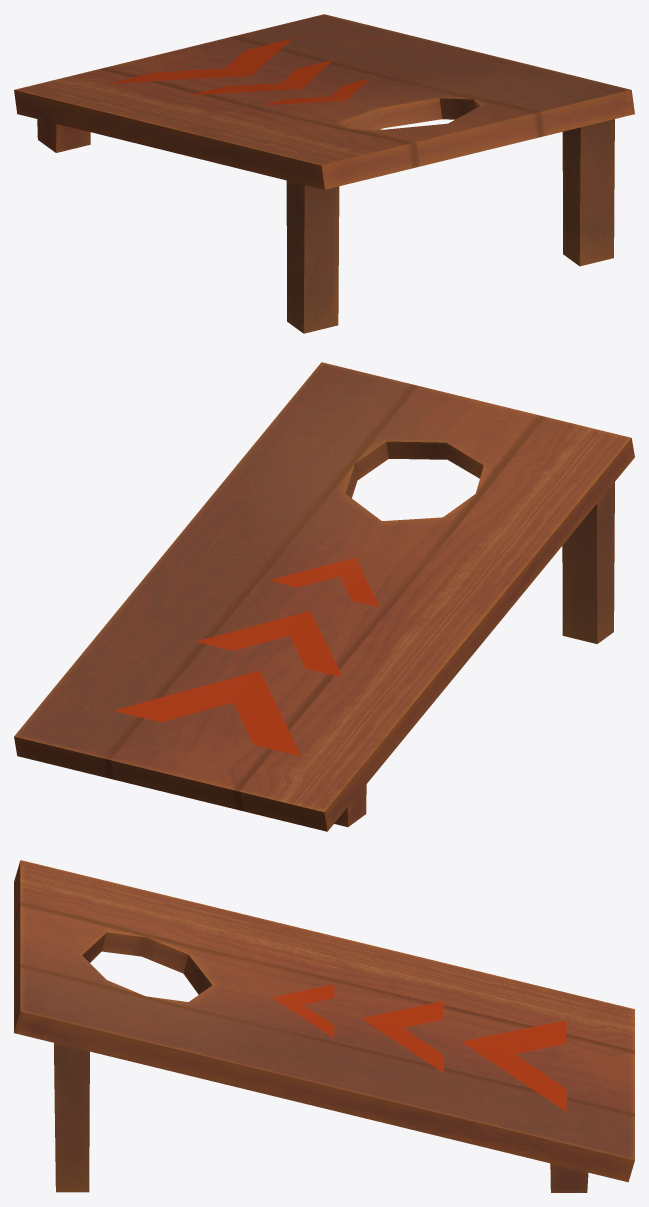
File: CornHolePlankUVtextured.fbx
3 views of the same model, one above another, from view 1: azimuth 30°, elevation 25°; view 2: azimuth 150°, elevation 25°; view 3: azimuth 270°, elevation 25° (orthographic).
Parts seen in each view (by area): view 1: cornhole_plank; view 2: cornhole_plank; view 3: cornhole_plank.
Boxes of the visible parts, left/top/right/bottom form: cornhole_plank: left=14, top=14, right=634, bottom=333; cornhole_plank: left=14, top=362, right=634, bottom=831; cornhole_plank: left=14, top=860, right=634, bottom=1192.
Size of the model in its own units: 83.74 by 46.9 by 145.
Materials: 1 (1 with a texture image).
